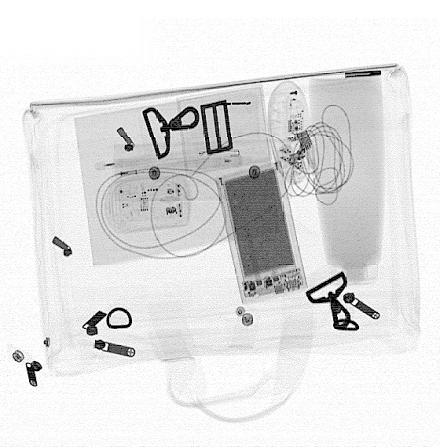Powerbank: (215, 159, 308, 305)
